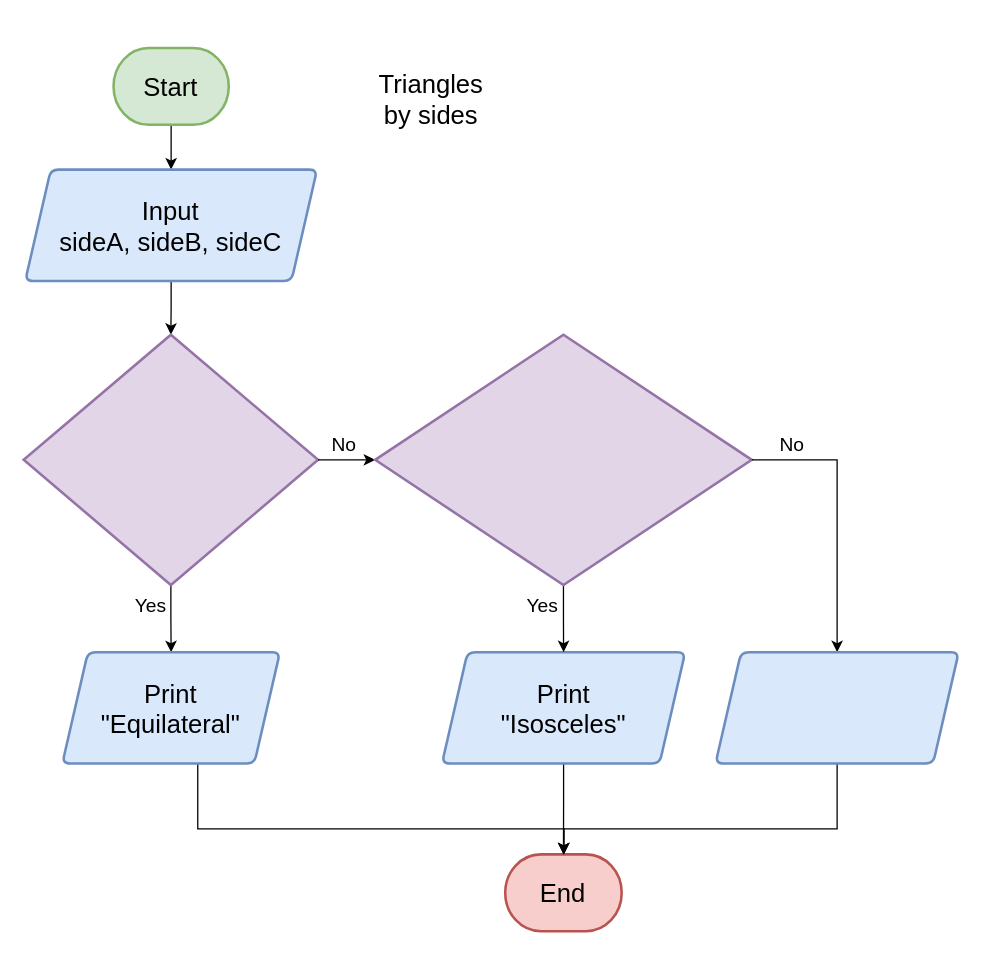
The diagram is 982 pixels wide and 954 high, and some of its shapes have lost their labels. The shapes that lost their labels are listed below. From the top down, each one's centre as x and y in pixels, then its label:
point (170, 459): sideA = sideB AND sideB = sideC ?
point (562, 459): sideA = sideB OR sid eB = sideC OR sideA = sideC ?
point (836, 707): Print "Scalene"
